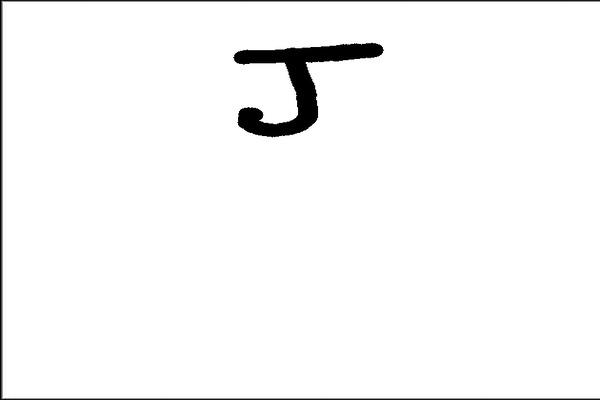J: (222, 36, 389, 140)
